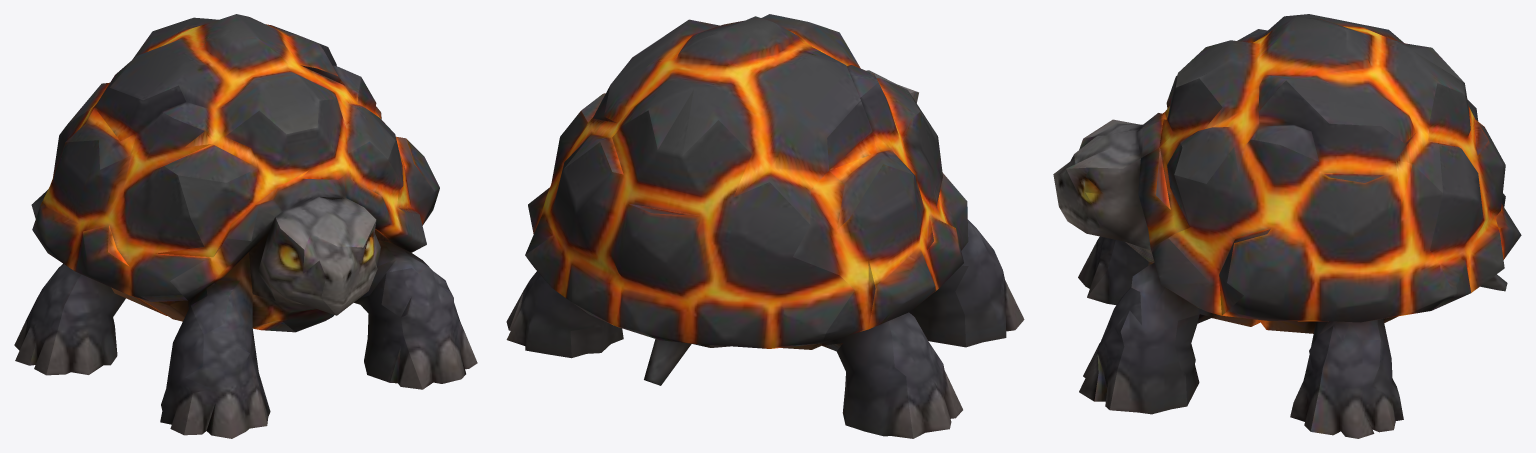
The model's file is m_tortue_basalte.glb.
3 views of the same model, side by side, from view 1: azimuth 30°, elevation 25°; view 2: azimuth 150°, elevation 25°; view 3: azimuth 270°, elevation 25° (orthographic). The views are drawn at different scales.
Visible parts, largest first — view 1: monstre; view 2: monstre; view 3: monstre.
Part boxes in pixels (x1,y1,x2,y2): monstre: [14, 14, 477, 438]; monstre: [506, 14, 1024, 438]; monstre: [1053, 14, 1521, 438].
Size of the model in its own units: 1 by 0.7228 by 0.9685.
Materials: 1 (1 with a texture image).
